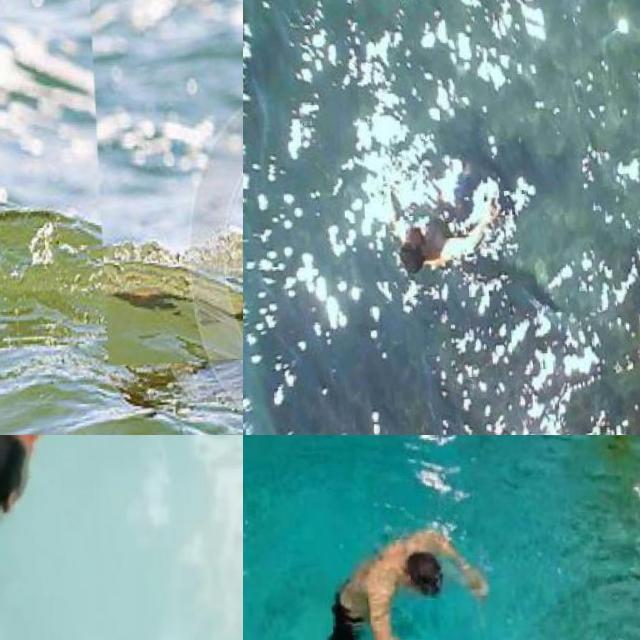drowning: (88, 0, 243, 366), (278, 515, 510, 640)
swimming: (0, 435, 105, 640), (372, 178, 512, 283), (243, 0, 275, 168)
